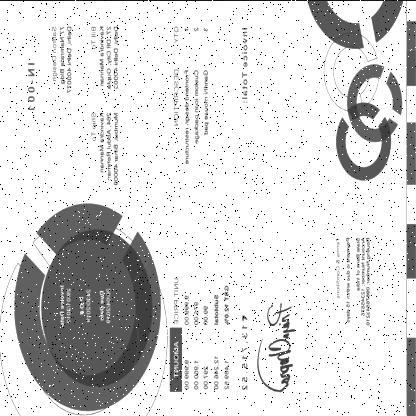Paragraph: (240, 25, 250, 392), (334, 235, 372, 326), (90, 110, 119, 186), (90, 22, 119, 90), (51, 24, 73, 93), (60, 284, 72, 326), (99, 286, 111, 324), (79, 288, 91, 322), (27, 61, 35, 110)
Table: (170, 22, 235, 392)
